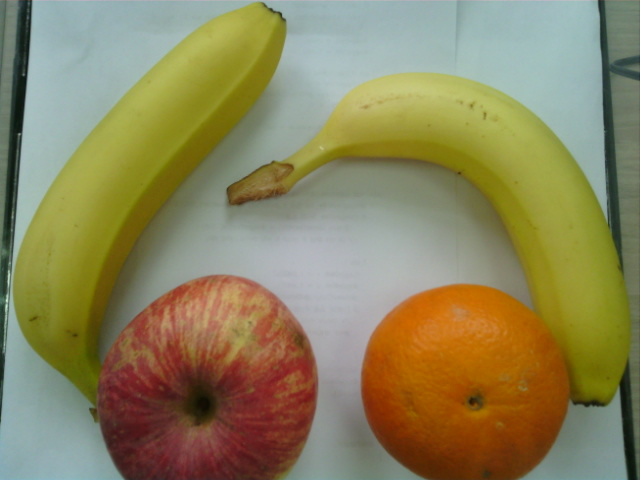normal_apple: (99, 276, 317, 480)
normal_banana: (298, 69, 627, 402), (21, 3, 286, 378)
normal_orange: (361, 284, 572, 480)
